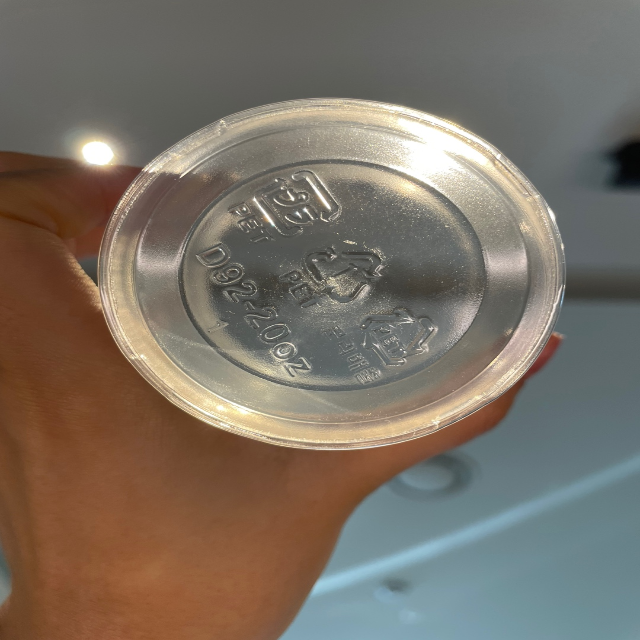pet: (224, 166, 342, 245), (321, 310, 440, 384), (280, 243, 392, 312)
